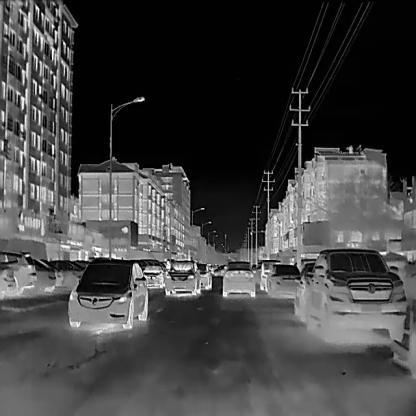car: (300, 249, 403, 341), (66, 257, 147, 327), (0, 251, 37, 298), (266, 263, 302, 298), (222, 259, 255, 296), (165, 261, 201, 294), (28, 254, 55, 292), (49, 260, 84, 289), (141, 263, 165, 288), (195, 262, 212, 289)
